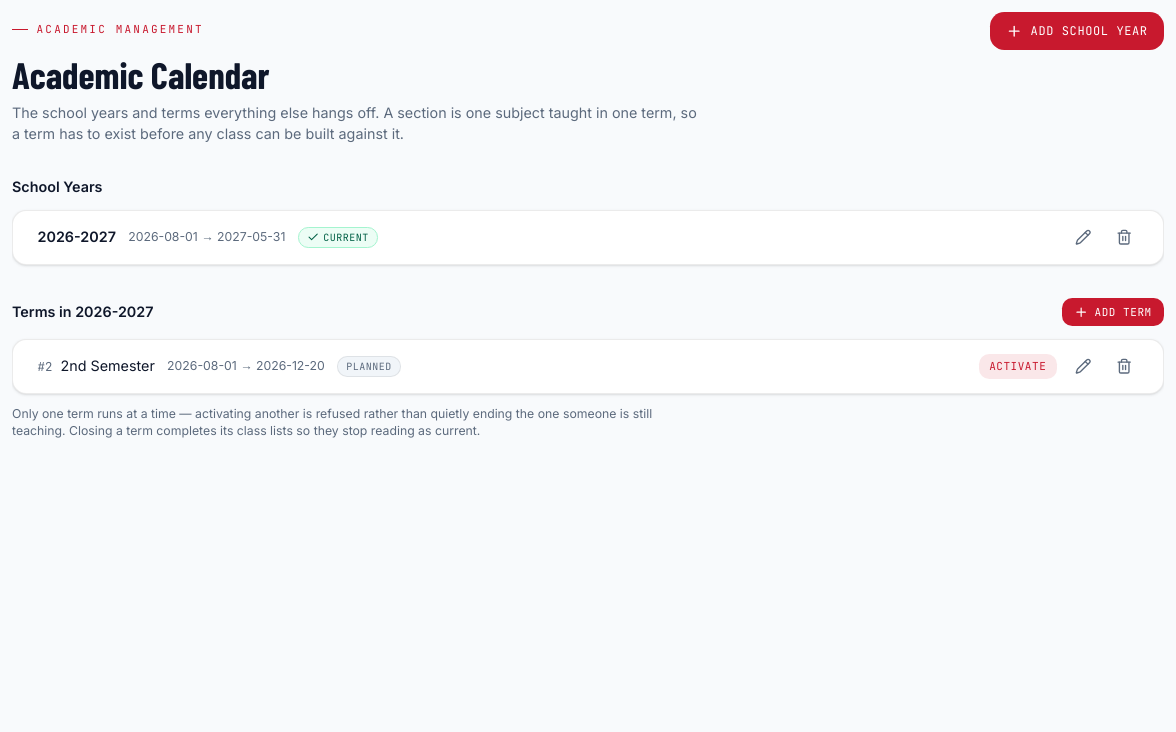
Test case: Academic Calendar › passes the server's refusal through instead of flattening it into a generic failure
Click the button "Activate".
click(1018, 366)  # box [979,354,1057,379]
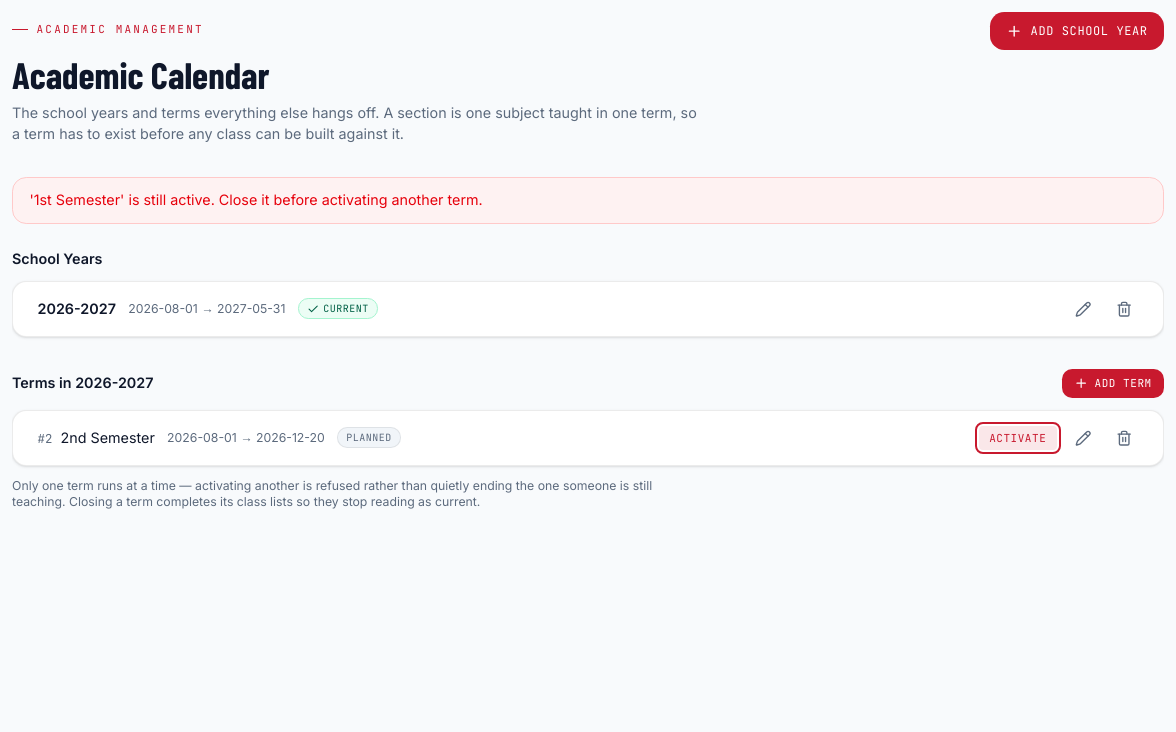
Result: the message shows "still active. Close it before activating" at [29,191,483,208]
